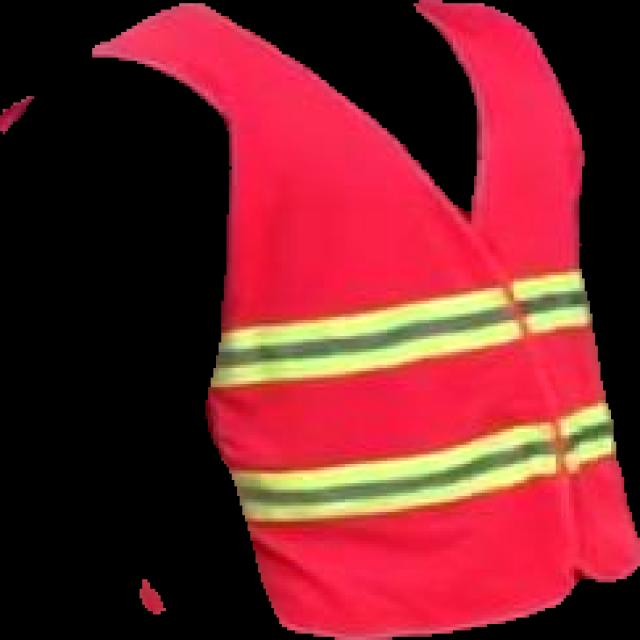Colete: (93, 0, 639, 639)
